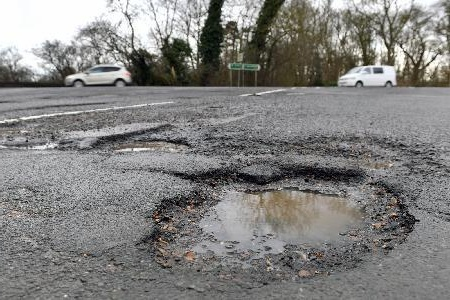pothole: (143, 163, 418, 283), (90, 121, 193, 156)
